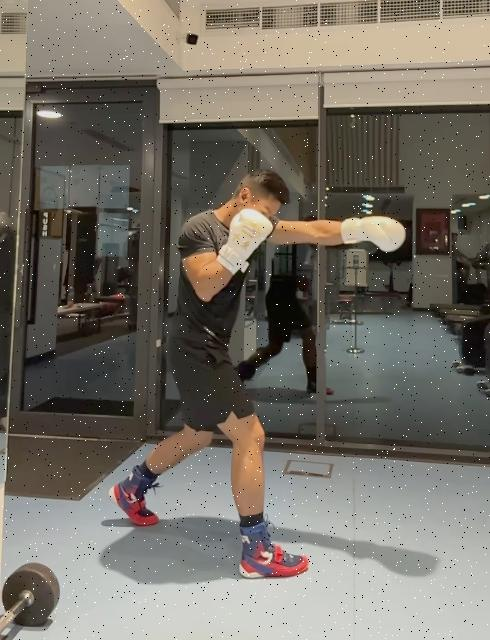punch: (111, 168, 410, 580)
